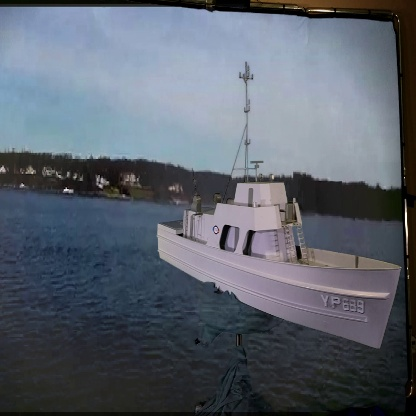YP689: (156, 63, 401, 351)
